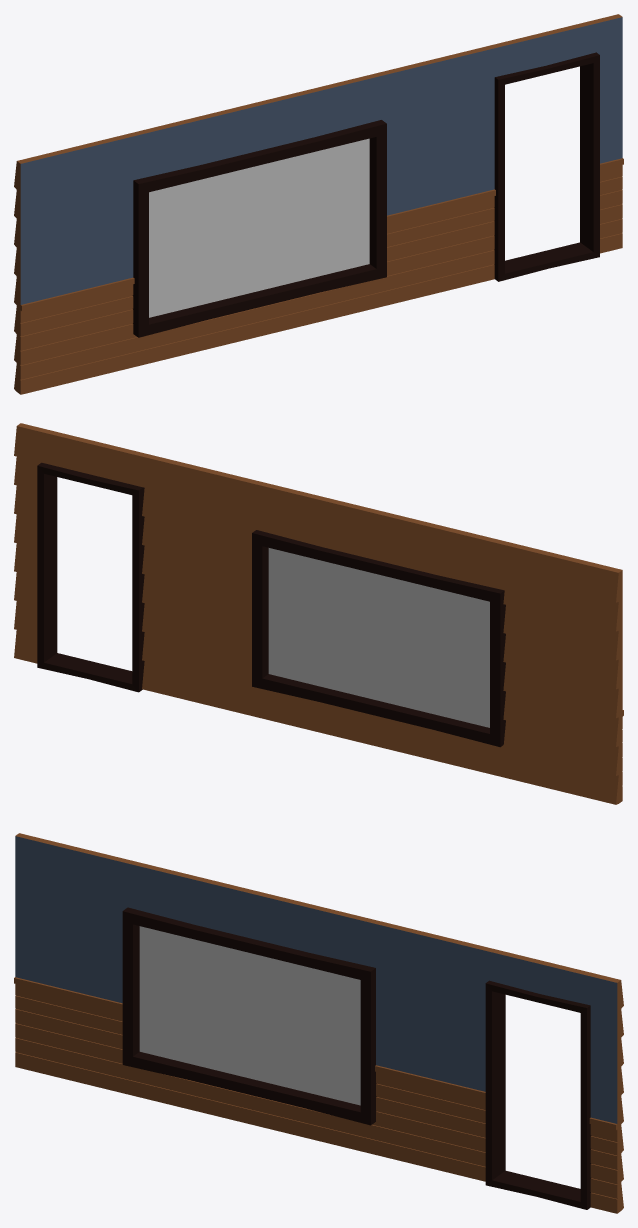
File: ww_door_and_window_b.glb
The picture shows the model from 3 angles, top to bottom: view 1: azimuth 30°, elevation 25°; view 2: azimuth 150°, elevation 25°; view 3: azimuth 330°, elevation 25°; orthographic projection.
Visible parts, largest first — view 1: Door_and_Window_B; view 2: Door_and_Window_B; view 3: Door_and_Window_B.
Part boxes in pixels (<box>): Door_and_Window_B: <box>14,14,623,394</box>; Door_and_Window_B: <box>14,423,623,804</box>; Door_and_Window_B: <box>14,833,623,1213</box>.
Bounding box in the file's own units: 9.6 × 3.52 × 0.416.
